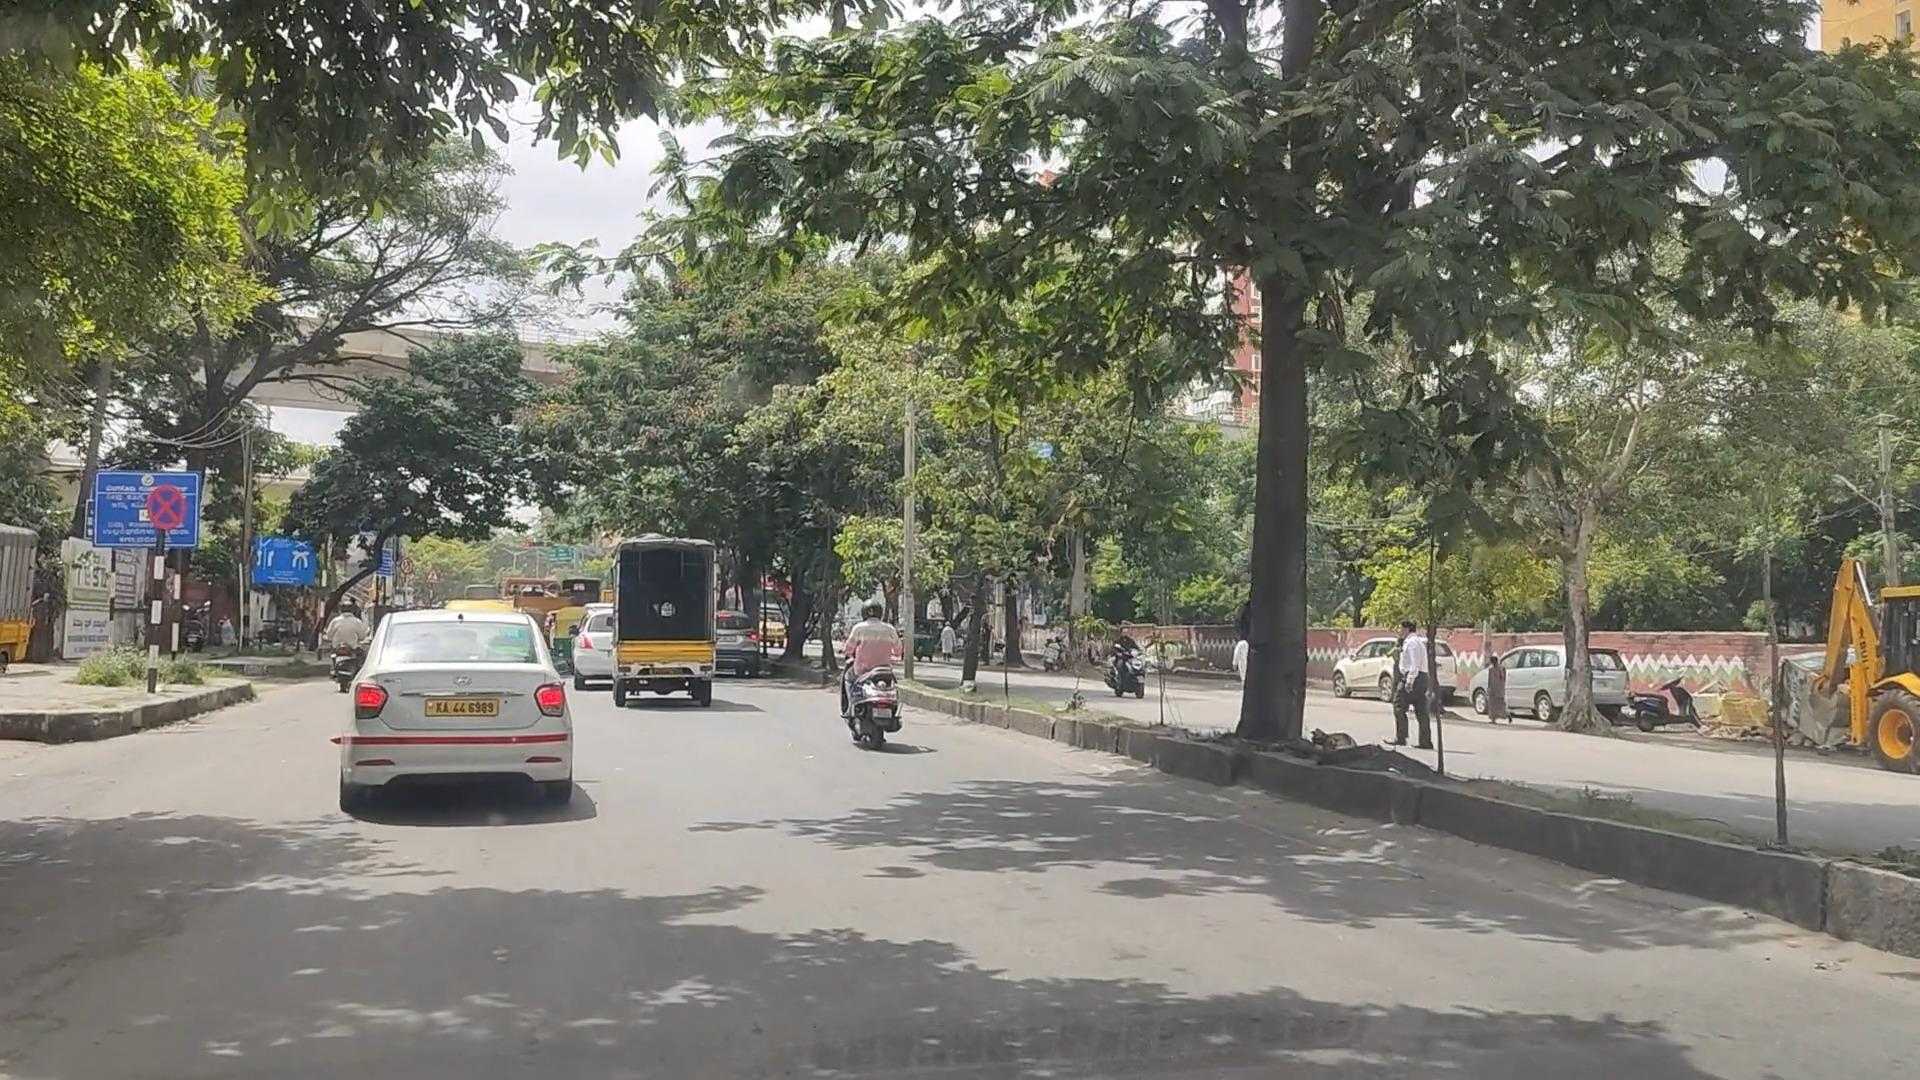HMV: (608, 533, 723, 694)
LMV: (360, 611, 578, 832), (824, 595, 903, 742)
